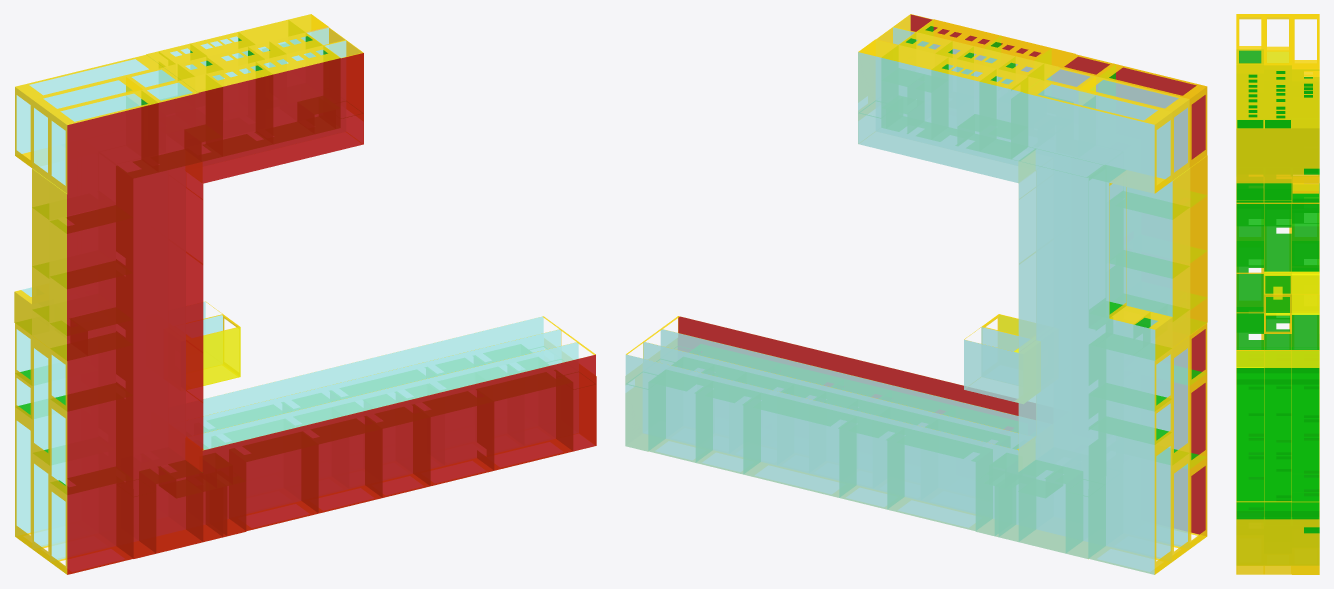
File: hello-world-2020-12-03.gltf
3 views of the same model, side by side, from view 1: azimuth 30°, elevation 25°; view 2: azimuth 150°, elevation 25°; view 3: azimuth 270°, elevation 25° (orthographic). The views are drawn at different scales.
Parts seen in each view (by area): view 1: GBXmeshGroup; view 2: GBXmeshGroup; view 3: GBXmeshGroup.
Part boxes in pixels (x1,y1,x2,y2): GBXmeshGroup: (14,14,596,574); GBXmeshGroup: (625,14,1207,574); GBXmeshGroup: (1236,14,1319,574).
Bounding box in the file's own units: 66.37 × 53.97 × 11.4.
